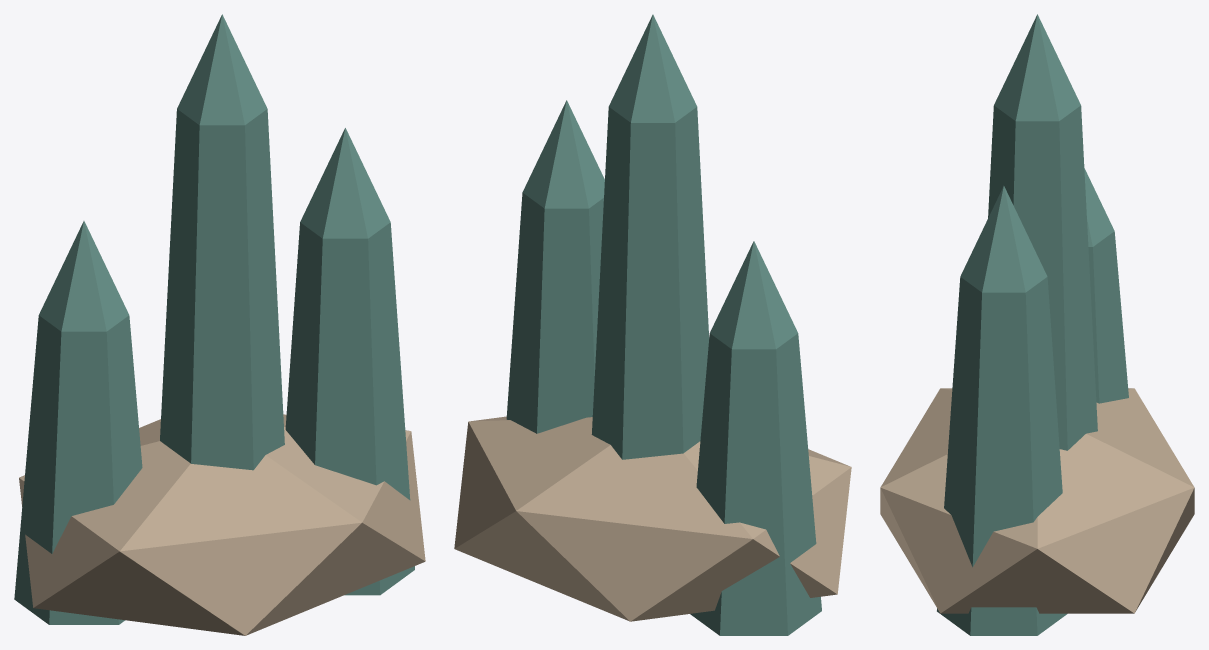
Rendered from var_crystal_cluster.glb.
The picture shows the model from 3 angles, left to right: view 1: azimuth 30°, elevation 25°; view 2: azimuth 150°, elevation 25°; view 3: azimuth 270°, elevation 25°; orthographic projection. The views are drawn at different scales.
Parts seen in each view (by area): view 1: var_crystal_cluster; view 2: var_crystal_cluster; view 3: var_crystal_cluster.
Part boxes in pixels (left/top/right/bottom): var_crystal_cluster: left=14, top=14, right=425, bottom=635; var_crystal_cluster: left=454, top=14, right=851, bottom=635; var_crystal_cluster: left=880, top=14, right=1194, bottom=635.
Bounding box in the file's own units: 1.25 × 1.9 × 0.9357.
